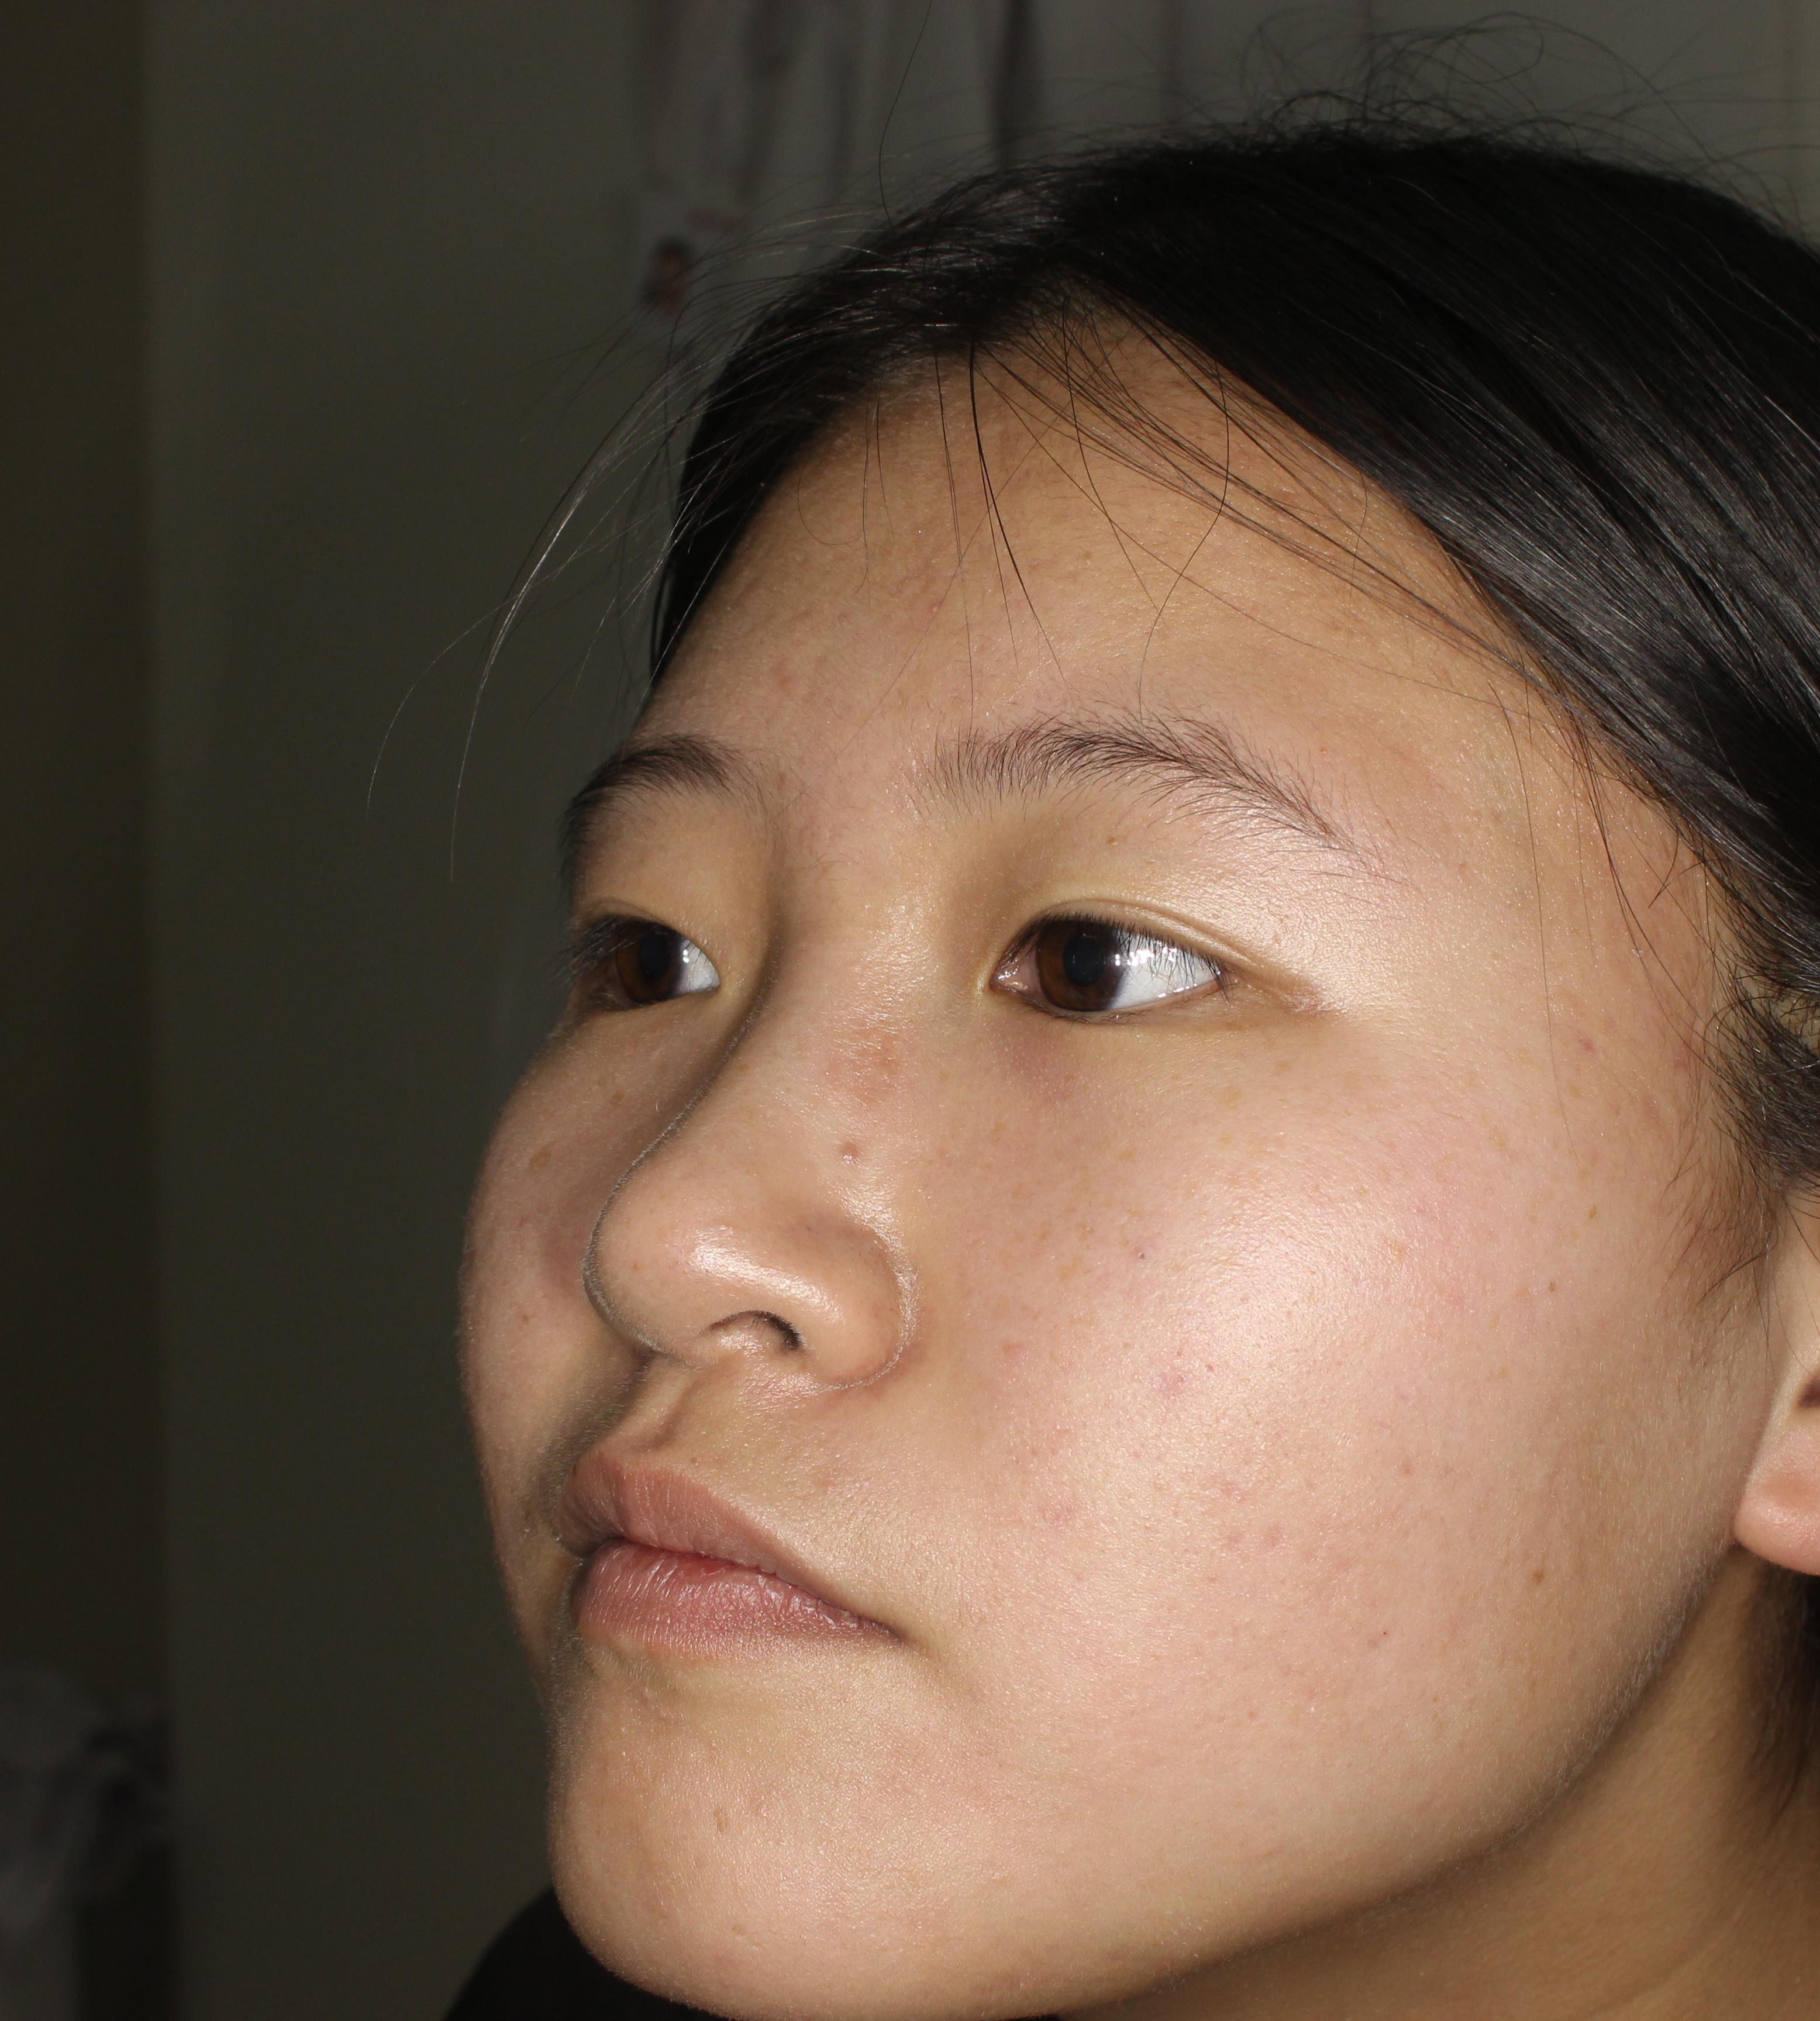fore: (803, 1118, 915, 1205)
